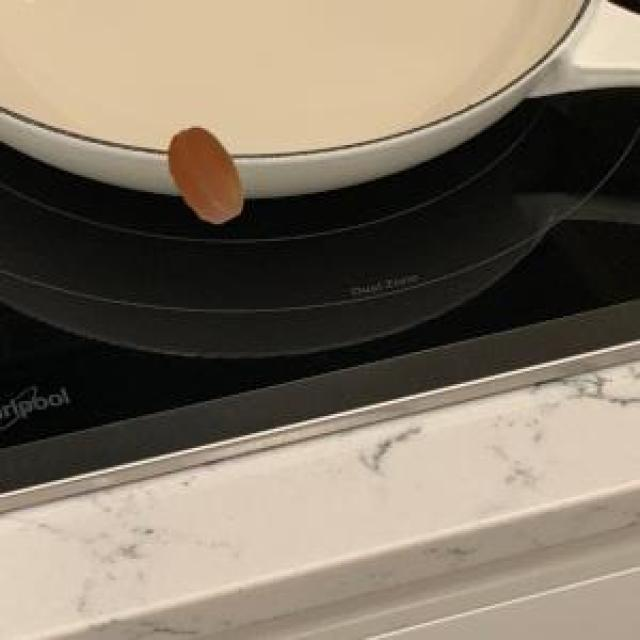Bactidol: (156, 116, 258, 247)
